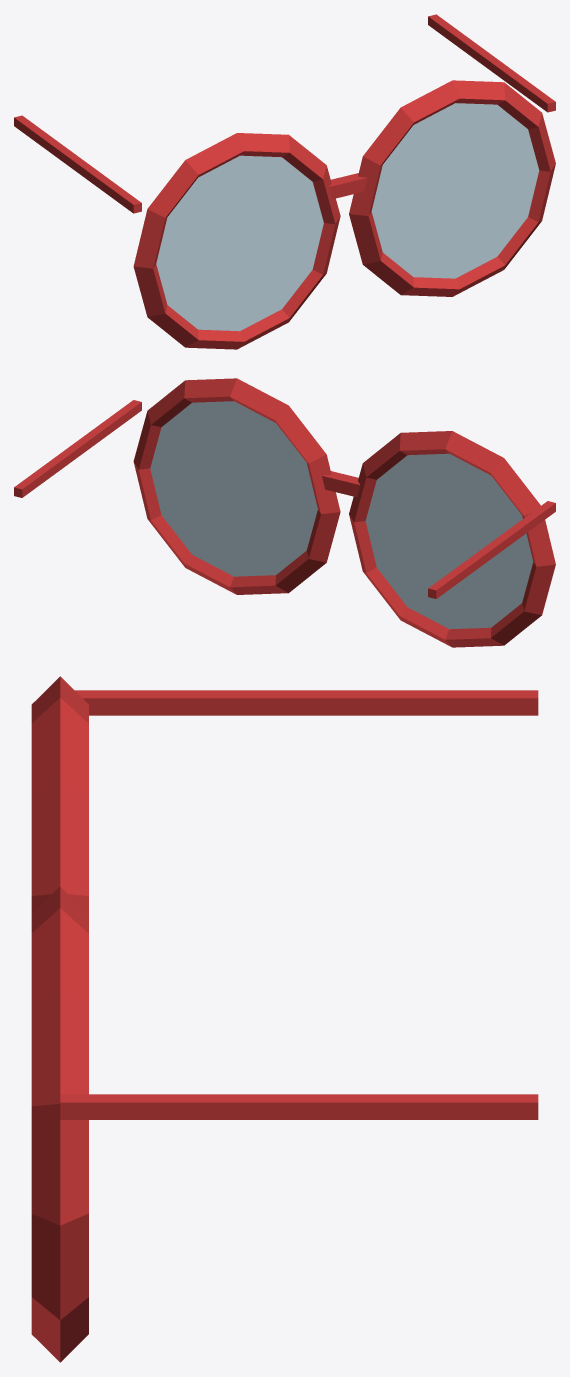
The model's file is loose_glasses.glb.
The picture shows the model from 3 angles, top to bottom: view 1: azimuth 30°, elevation 25°; view 2: azimuth 150°, elevation 25°; view 3: azimuth 270°, elevation 25°; orthographic projection. The views are drawn at different scales.
Parts seen in each view (by area): view 1: lens_lens, rim_frame_d23a3a, temple_frame_d23a3a, bridge_frame_d23a3a; view 2: lens_lens, rim_frame_d23a3a, temple_frame_d23a3a, bridge_frame_d23a3a; view 3: rim_frame_d23a3a, temple_frame_d23a3a.
Part boxes in pixels (box(x1,y1,x2,y2)): lens_lens: box(156, 103, 539, 331); rim_frame_d23a3a: box(133, 80, 555, 349); temple_frame_d23a3a: box(14, 14, 555, 213); bridge_frame_d23a3a: box(329, 173, 367, 199); lens_lens: box(150, 401, 533, 629); rim_frame_d23a3a: box(133, 378, 555, 647); temple_frame_d23a3a: box(14, 400, 555, 598); bridge_frame_d23a3a: box(322, 471, 360, 497); rim_frame_d23a3a: box(31, 676, 88, 1362); temple_frame_d23a3a: box(60, 690, 538, 1119).
Size of the model in its own units: 0.1632 by 0.08 by 0.0848.
